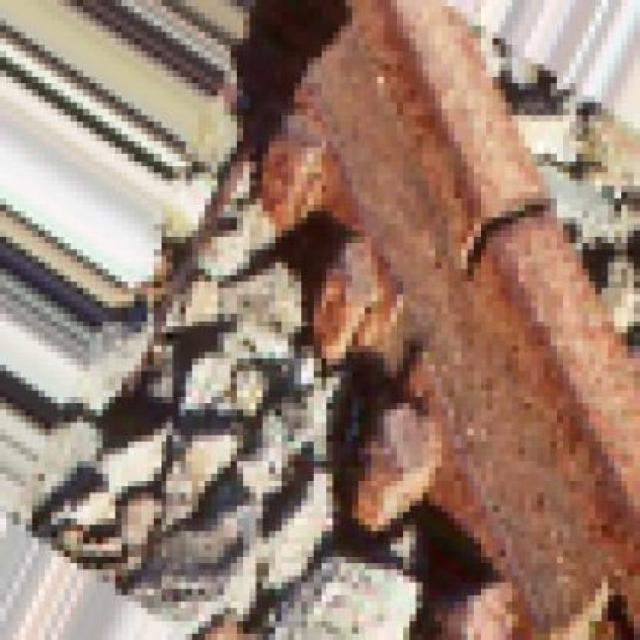defective: (395, 124, 588, 356)
